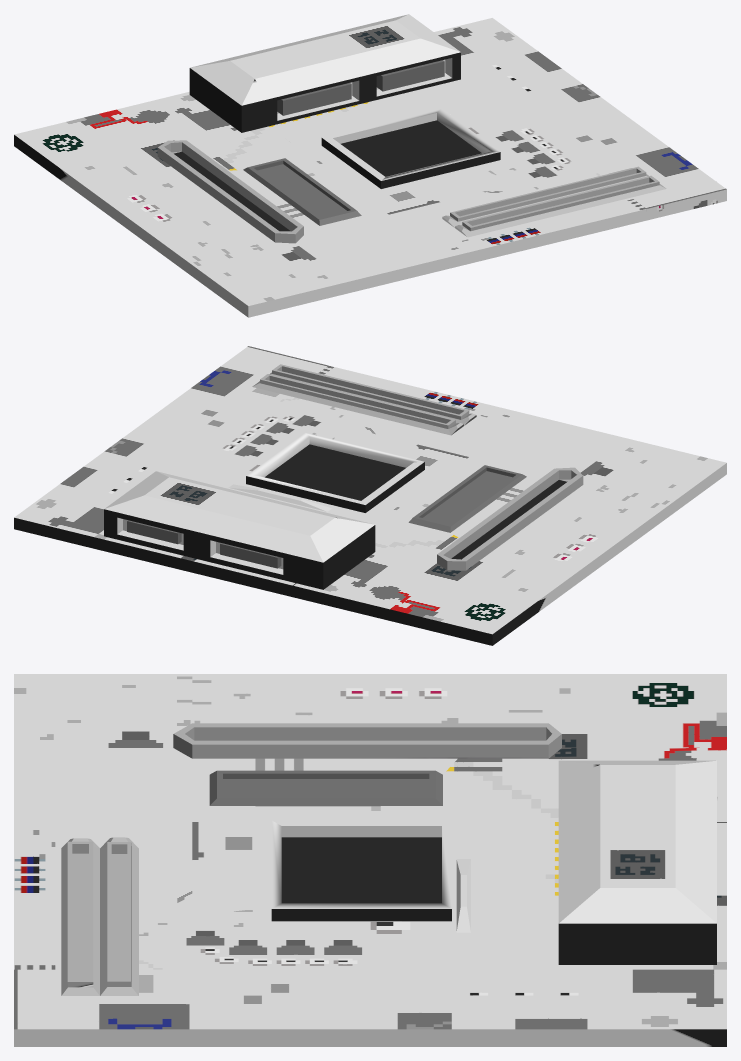
Rendered from PlacaMae_G.fbx.
3 renders of one model, top to bottom at view 1: azimuth 30°, elevation 25°; view 2: azimuth 150°, elevation 25°; view 3: azimuth 270°, elevation 25°, orthographic. The views are drawn at different scales.
Visible parts, largest first — view 1: PlacaMae.G; view 2: PlacaMae.G; view 3: PlacaMae.G.
Part boxes in pixels (x1,y1,x2,y2): PlacaMae.G: (14, 14, 726, 317); PlacaMae.G: (14, 346, 726, 645); PlacaMae.G: (14, 674, 726, 1046).
Size of the model in its own units: 1366 by 134 by 1159.
